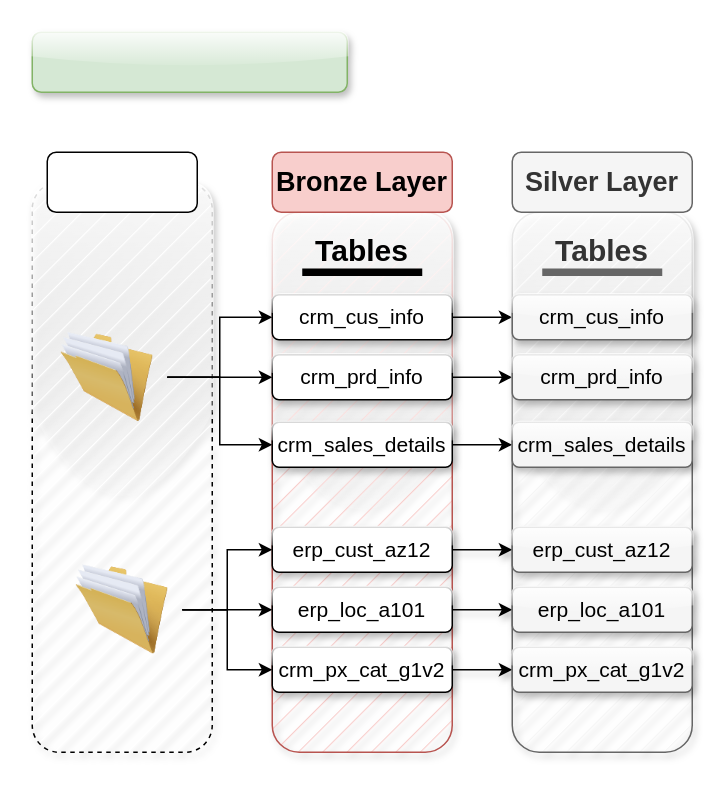
This 728x789 diagram has some shape labels left out. The shapes that lost their labels are listed below. From the top down, each one's centre as x and y in pixels, then its label:
At (x=190, y=64): "Data Flow Diagram".
At (x=121, y=181): "Sources".
At (x=106, y=377): "CRM".
At (x=122, y=609): "ERP".
